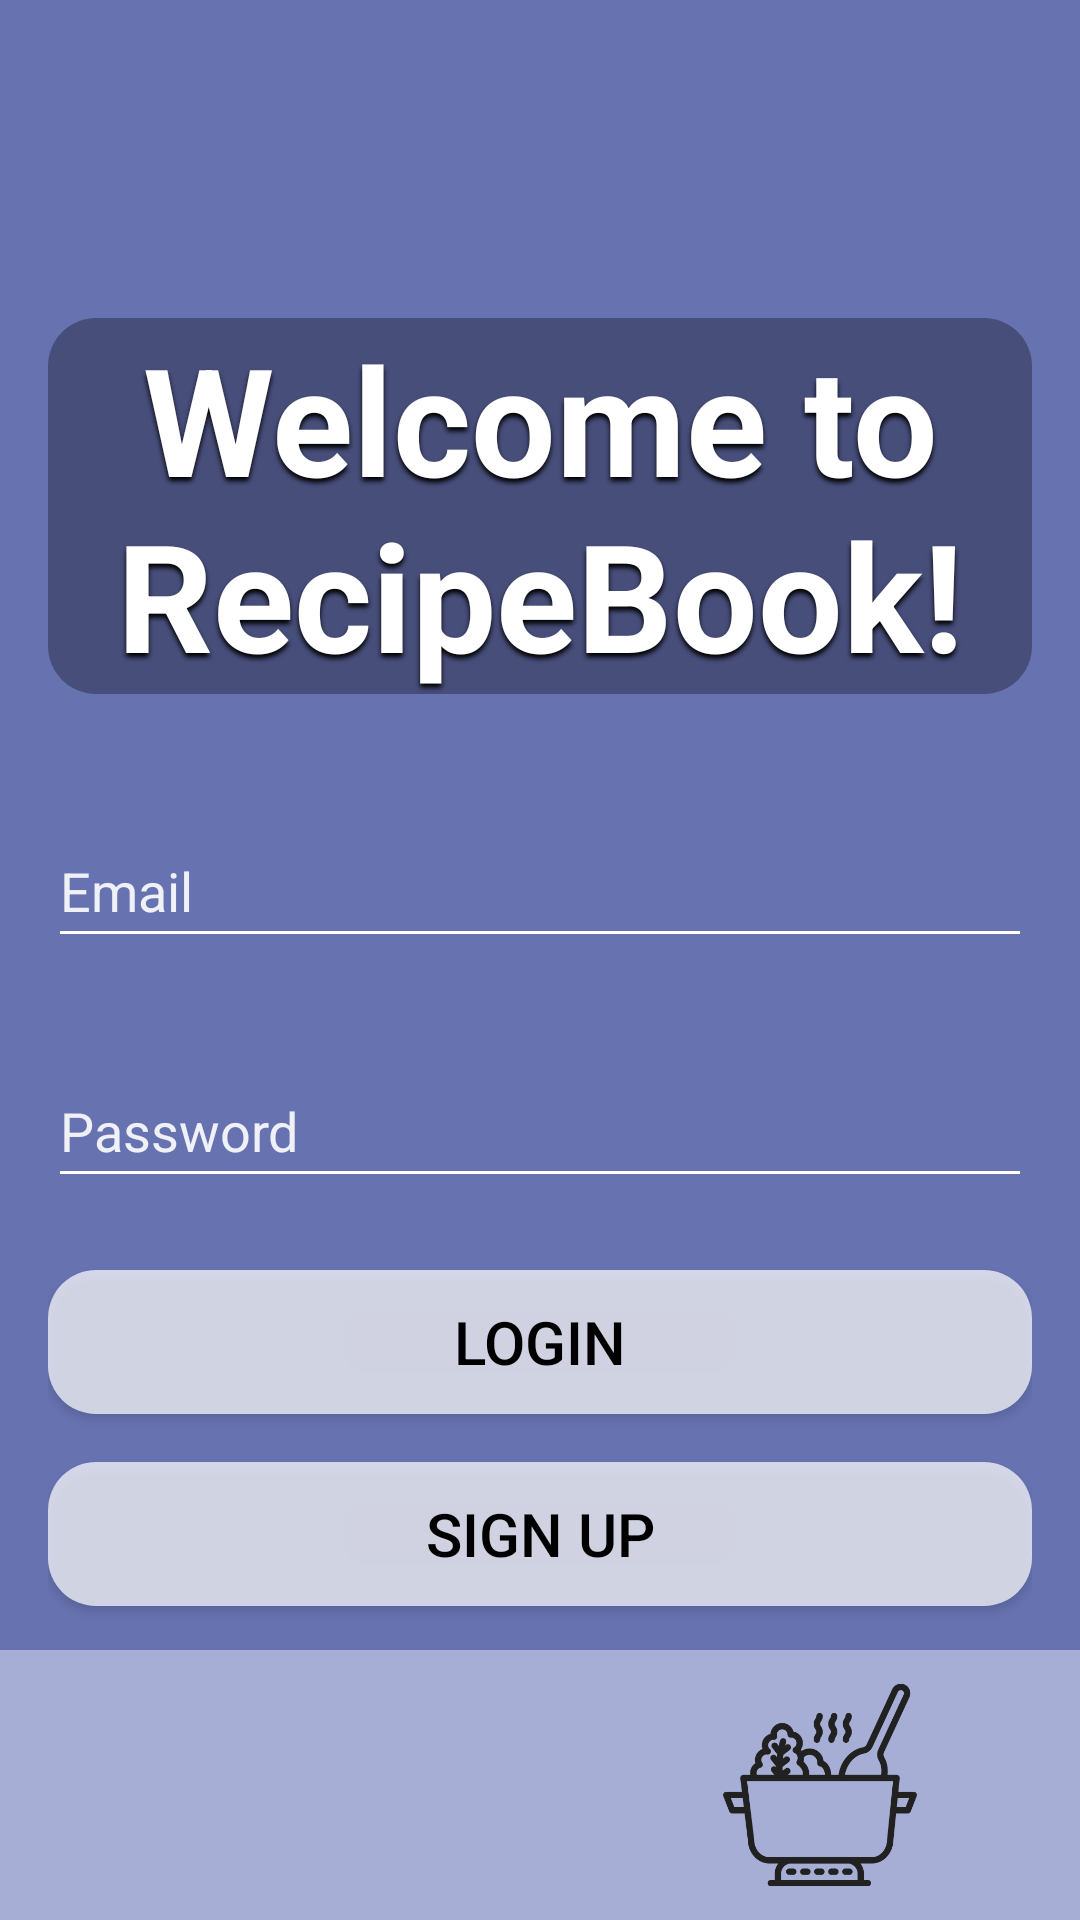

Icons on this 1080px×1920px Android screen, each with its box as (x1, y1, x2, y2):
cook: (723, 1684, 917, 1886)
